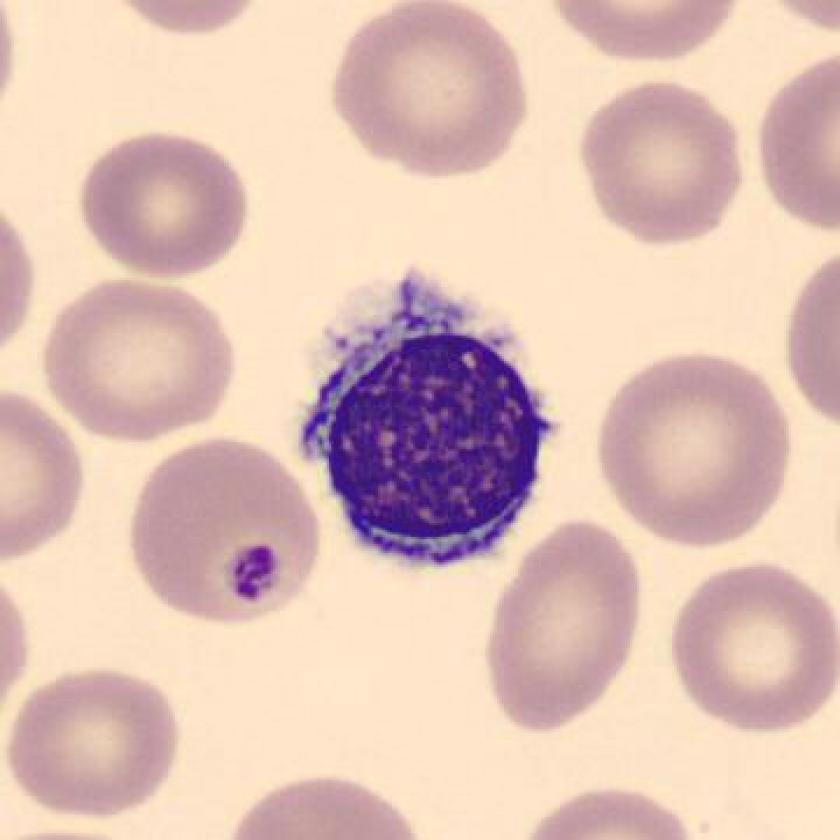lymphocyte: (283, 270, 568, 580)
